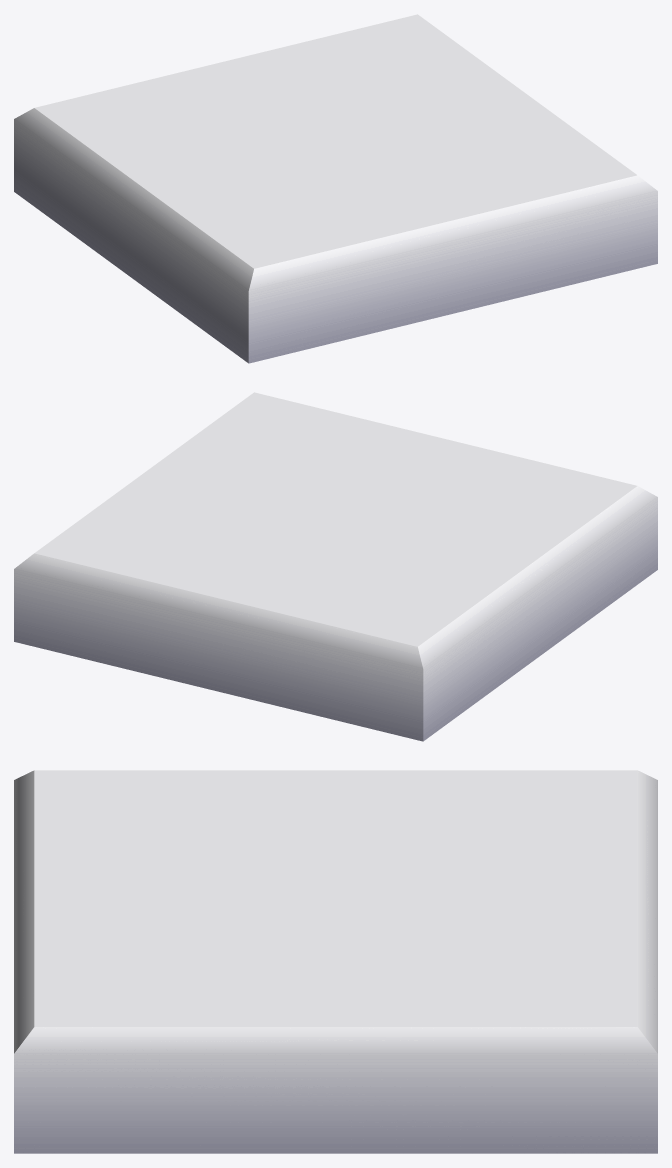
The model's file is brick-kit--none-hq-plate-2x2.glb.
The picture shows the model from 3 angles, top to bottom: view 1: azimuth 30°, elevation 25°; view 2: azimuth 150°, elevation 25°; view 3: azimuth 270°, elevation 25°; orthographic projection. The views are drawn at different scales.
Visible parts, largest first — view 1: none-hq-plate-2x2; view 2: none-hq-plate-2x2; view 3: none-hq-plate-2x2.
Boxes of the visible parts, box(x1,y1,x2,y2) form: none-hq-plate-2x2: box(14, 14, 657, 363); none-hq-plate-2x2: box(14, 392, 657, 741); none-hq-plate-2x2: box(14, 770, 657, 1153).
Bounding box in the file's own units: 0.159 × 0.032 × 0.158.
1 material, 1 textured.
